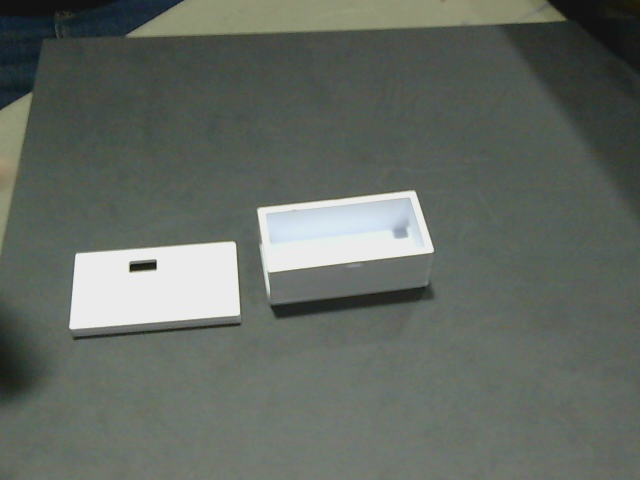enclosure_defective: (258, 191, 433, 276), (70, 242, 240, 329)
